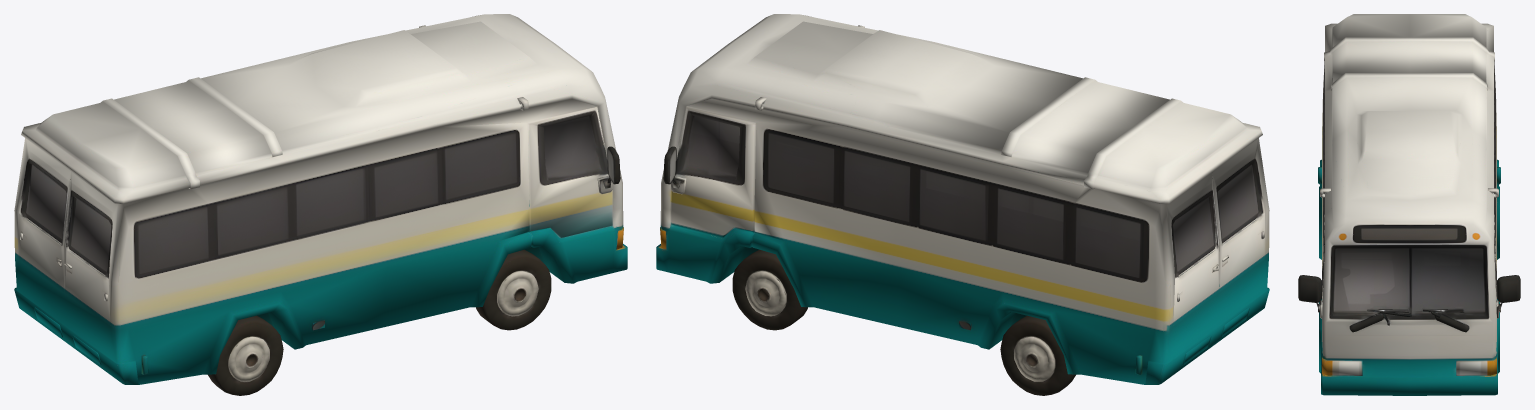
Rendered from campus-shuttle.glb.
3 renders of one model, left to right at view 1: azimuth 30°, elevation 25°; view 2: azimuth 150°, elevation 25°; view 3: azimuth 270°, elevation 25°, orthographic. The views are drawn at different scales.
Visible parts, largest first — view 1: tripo_node_62b5b1e8-5f9d-4277-bf9e-b888e69b70e2; view 2: tripo_node_62b5b1e8-5f9d-4277-bf9e-b888e69b70e2; view 3: tripo_node_62b5b1e8-5f9d-4277-bf9e-b888e69b70e2.
Part boxes in pixels (bbox=[...]): tripo_node_62b5b1e8-5f9d-4277-bf9e-b888e69b70e2: bbox=[14, 14, 627, 395]; tripo_node_62b5b1e8-5f9d-4277-bf9e-b888e69b70e2: bbox=[656, 14, 1269, 395]; tripo_node_62b5b1e8-5f9d-4277-bf9e-b888e69b70e2: bbox=[1298, 14, 1520, 395].
Size of the model in its own units: 0.998 by 0.4707 by 0.4395.
Materials: 1 (1 with a texture image).
